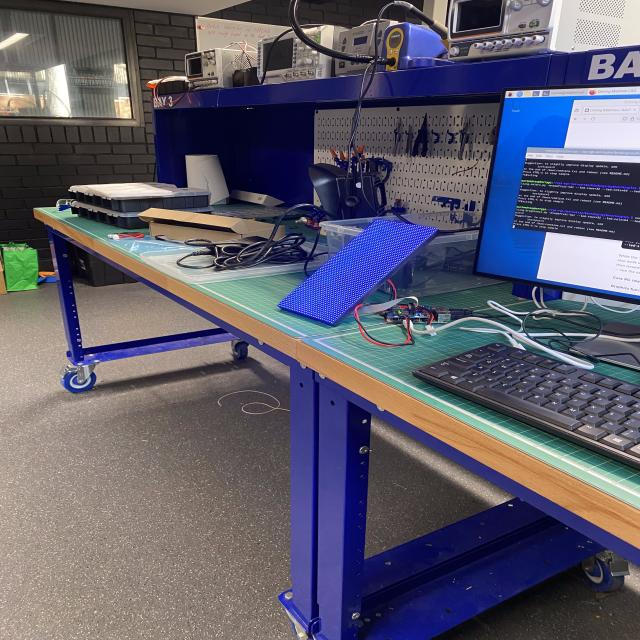matrix: (274, 217, 440, 328)
